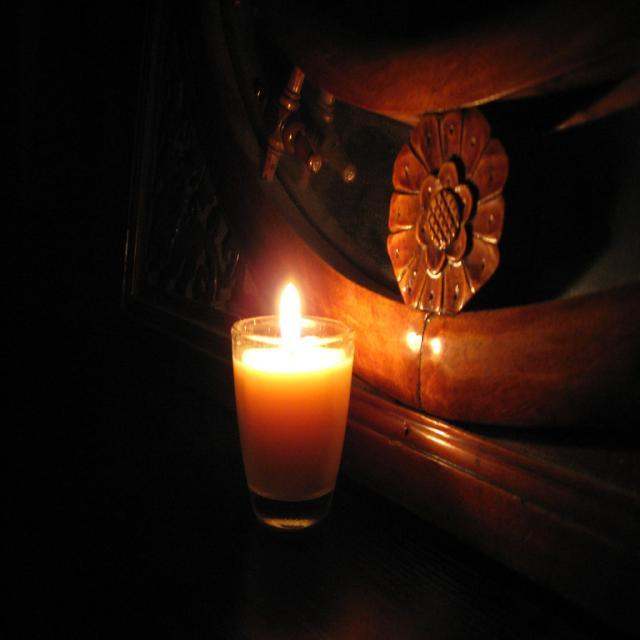Fire: (276, 280, 312, 345)
